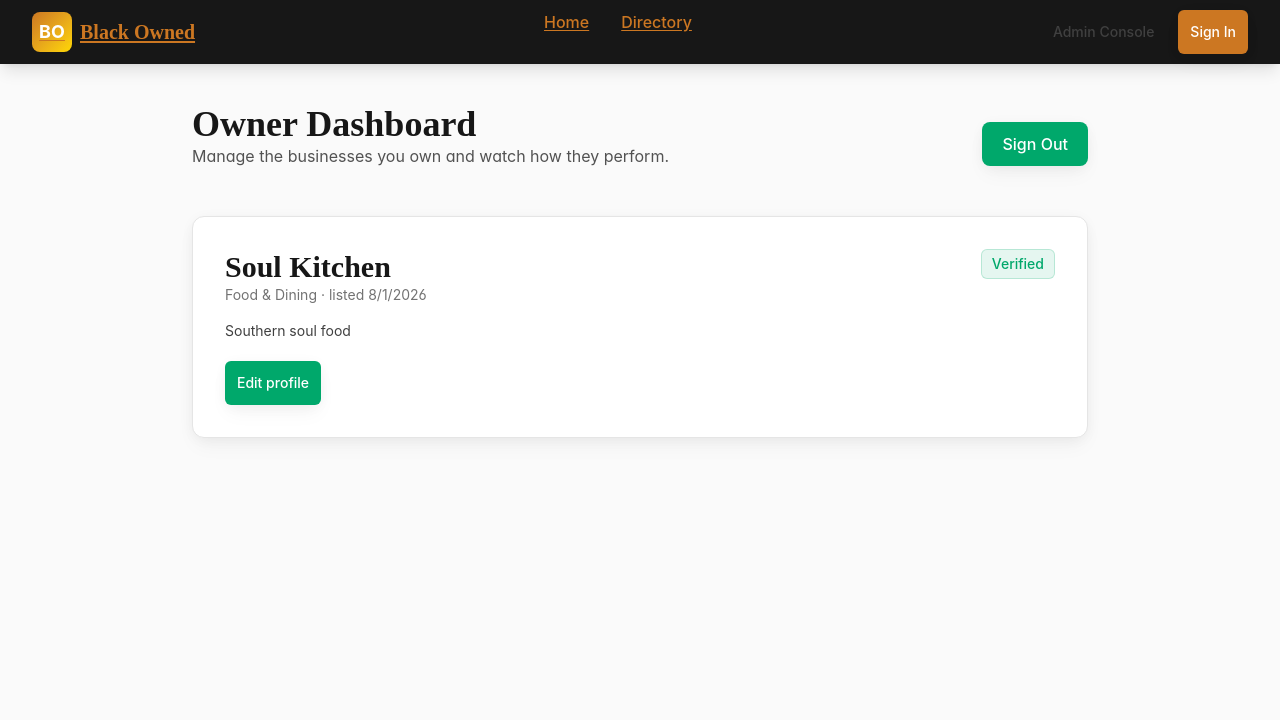
Test: OwnerDashboardPage › saves an edited description via PATCH and updates the card
The image size is (1280, 720).
Expected: the heading "Soul Kitchen" is shown, [225,250,391,283]
Click the button "Edit profile".
click(273, 383)  # box [225,361,321,405]
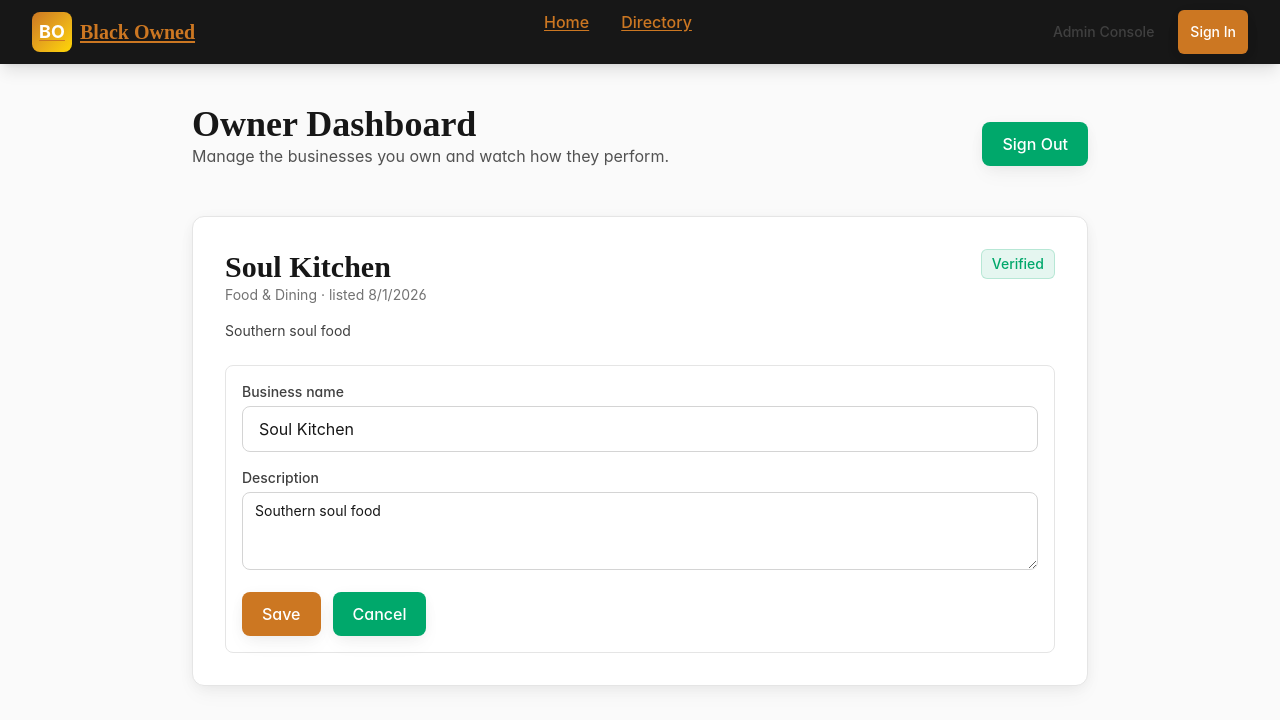
Replace the text in the text box labelled "Description" with "New description" at (640, 531), box [242,492,1038,570]
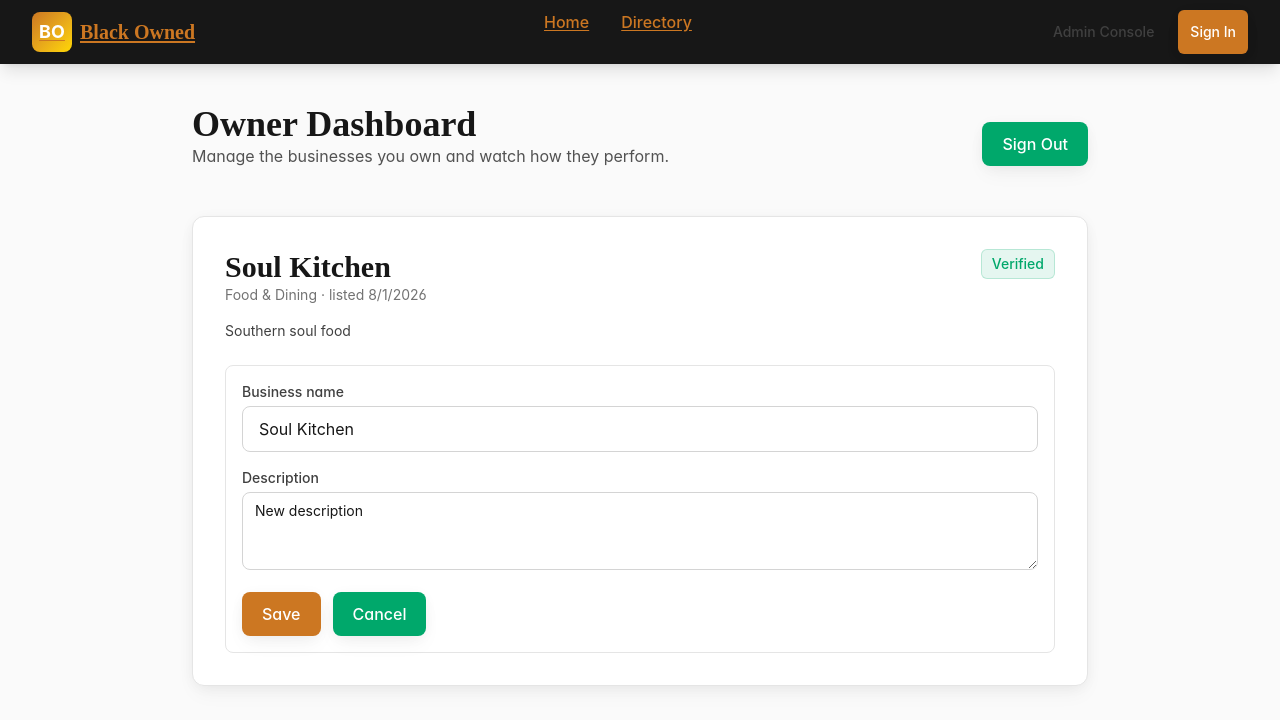
Click the button "Save".
click(281, 614)  # box [242,592,320,636]
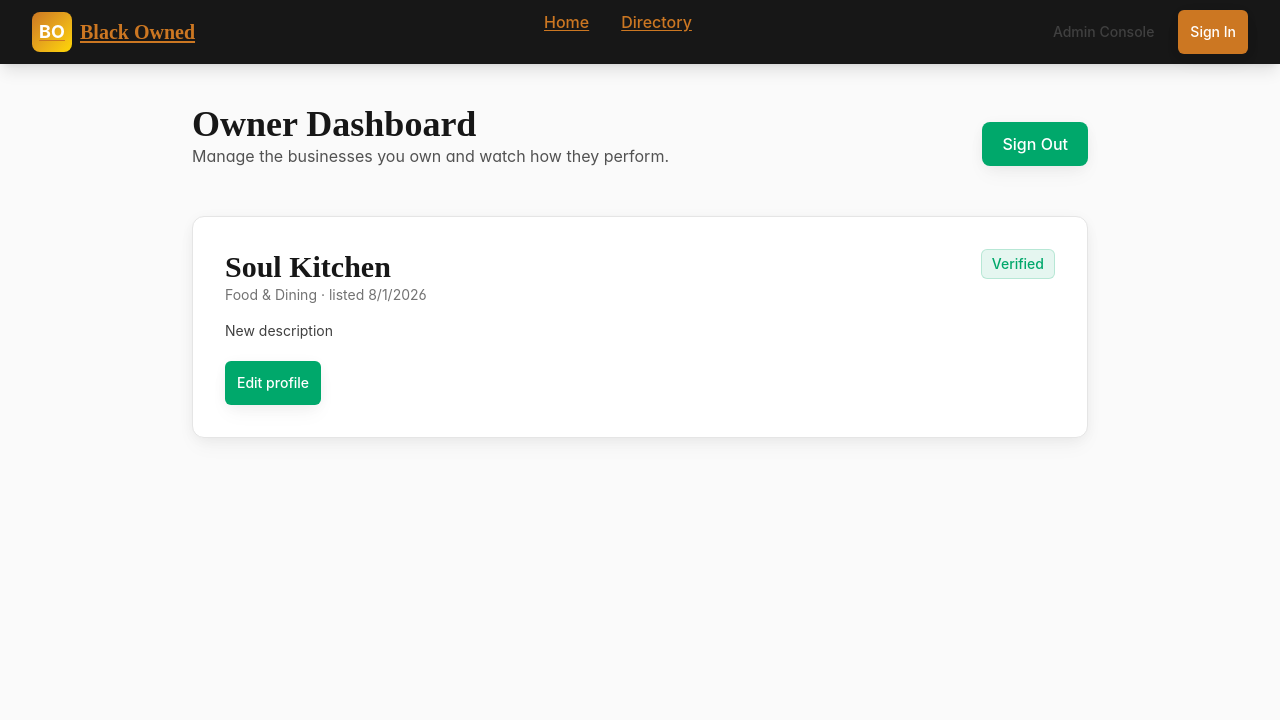
Expected: the text "New description" is shown, [225,322,333,339]
